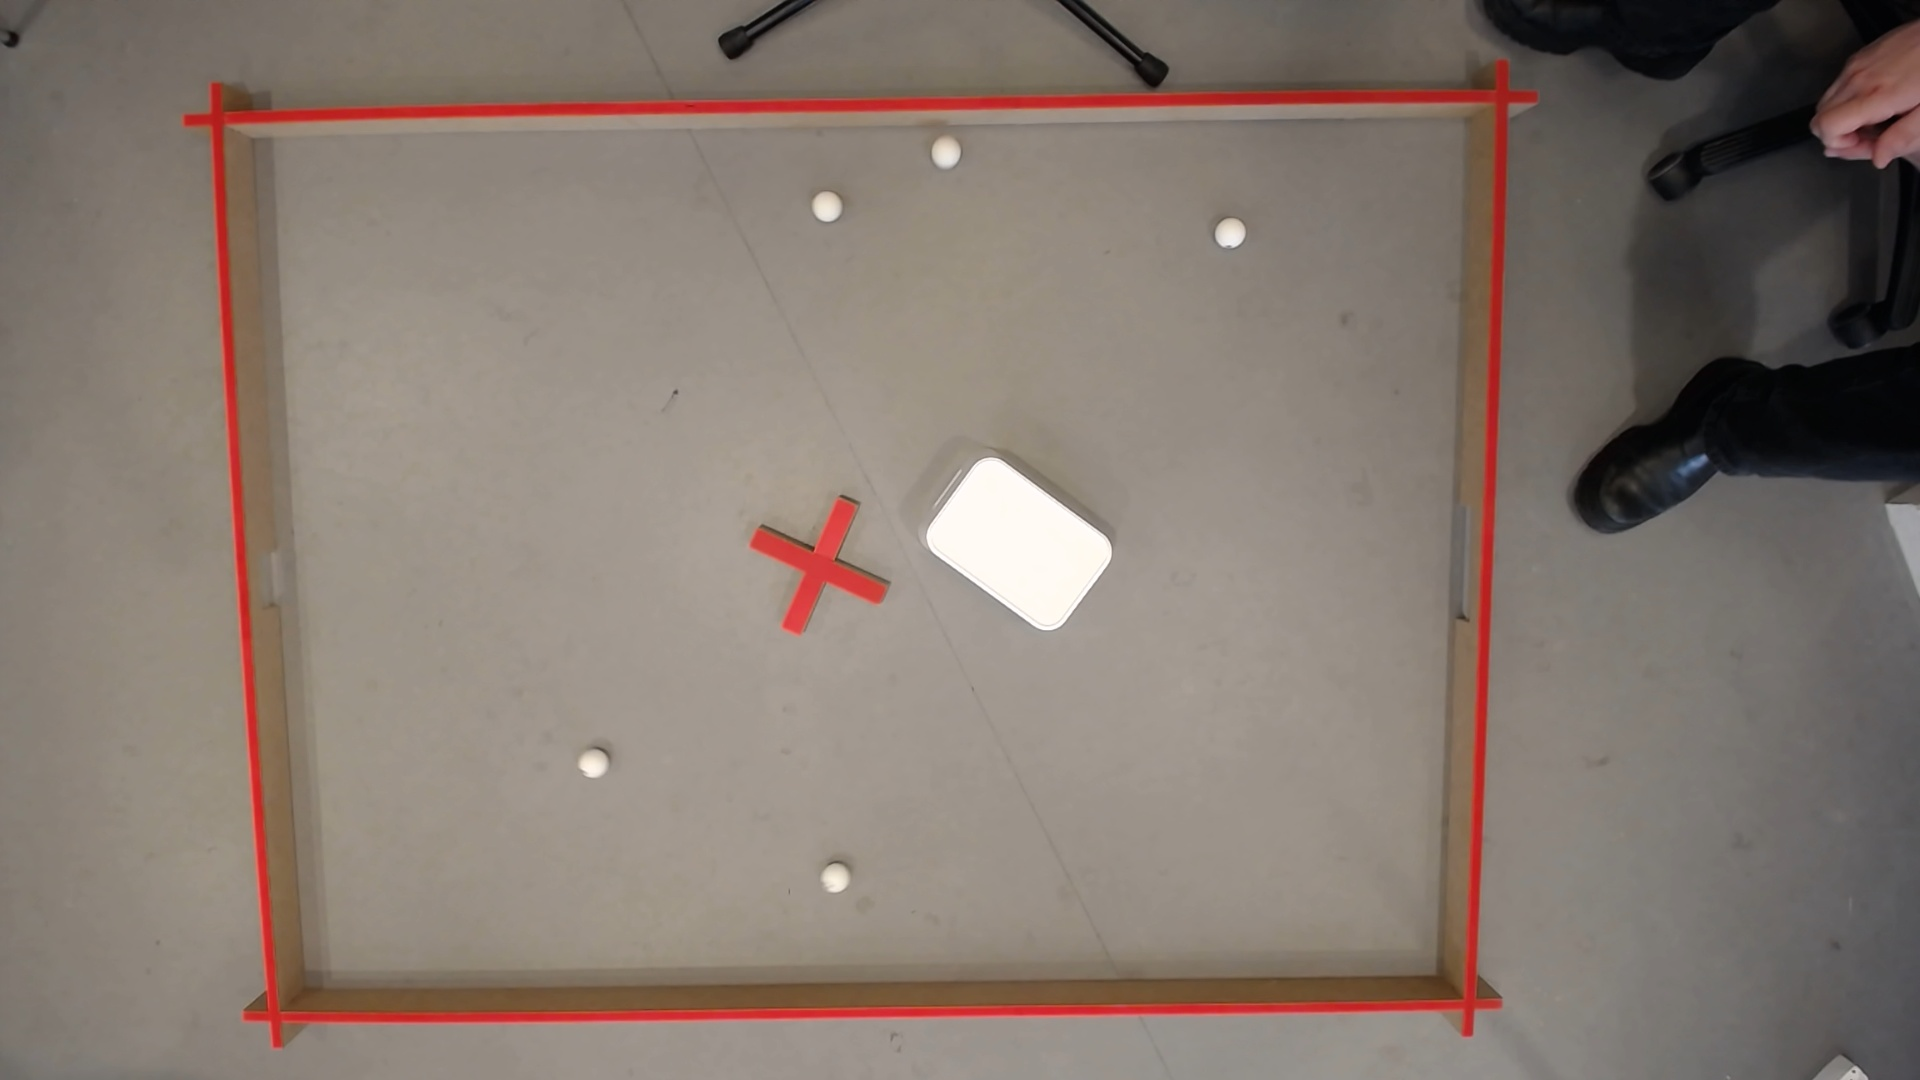balls: (915, 446, 1121, 640), (1212, 218, 1246, 252), (928, 137, 963, 170), (808, 193, 841, 225), (575, 749, 608, 781)
car: (819, 864, 851, 895)
